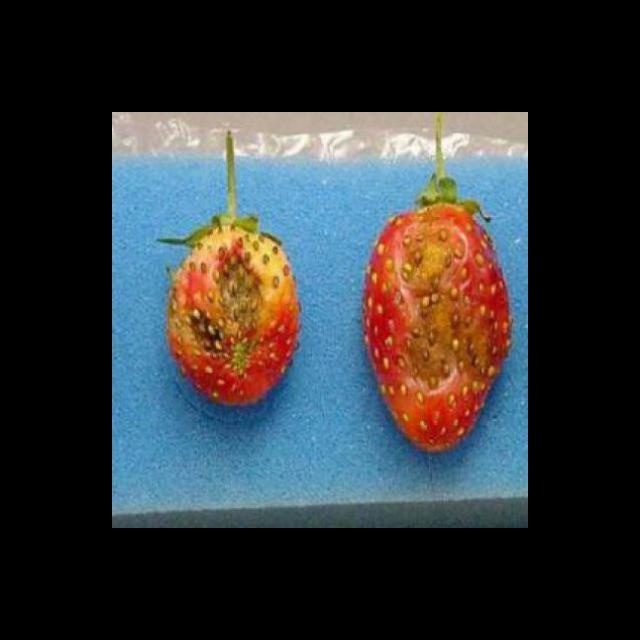Anthracnose Fruit Rot: (380, 200, 508, 401), (166, 235, 279, 380)
